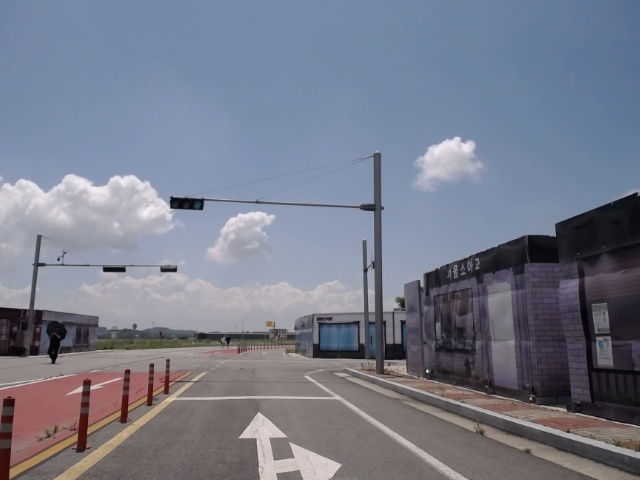green_3: (171, 198, 203, 209)
